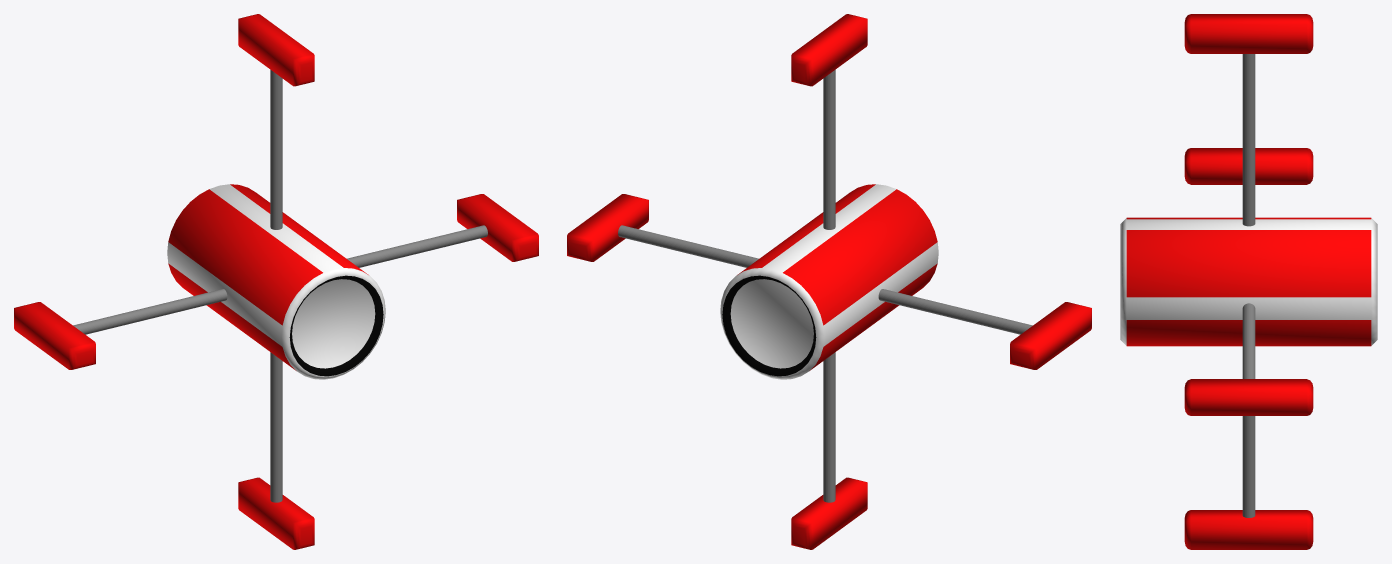
Rendered from Crusher.fbx.
3 renders of one model, left to right at view 1: azimuth 30°, elevation 25°; view 2: azimuth 150°, elevation 25°; view 3: azimuth 270°, elevation 25°, orthographic. The views are drawn at different scales.
Parts seen in each view (by area): view 1: Cylinder, Pole.002, Pole.001, Pole.003, Pole; view 2: Cylinder, Pole.002, Pole.001, Pole.003, Pole; view 3: Cylinder, Pole.002, Pole.003, Pole, Pole.001.
Boxes of the visible parts, <box> form: Cylinder: <box>167,184,385,379</box>; Pole.002: <box>238,14,314,229</box>; Pole.001: <box>14,289,227,369</box>; Pole.003: <box>238,352,314,549</box>; Pole: <box>347,194,538,267</box>; Cylinder: <box>720,184,938,379</box>; Pole.002: <box>791,14,867,229</box>; Pole.001: <box>878,289,1091,369</box>; Pole.003: <box>791,352,867,549</box>; Pole: <box>567,194,758,267</box>; Cylinder: <box>1120,217,1377,346</box>; Pole.002: <box>1184,14,1313,226</box>; Pole.003: <box>1184,416,1313,549</box>; Pole: <box>1184,303,1313,415</box>; Pole.001: <box>1184,148,1313,184</box>.
Size of the model in its own units: 900 by 900 by 400.
Materials: 2 (1 with a texture image).
